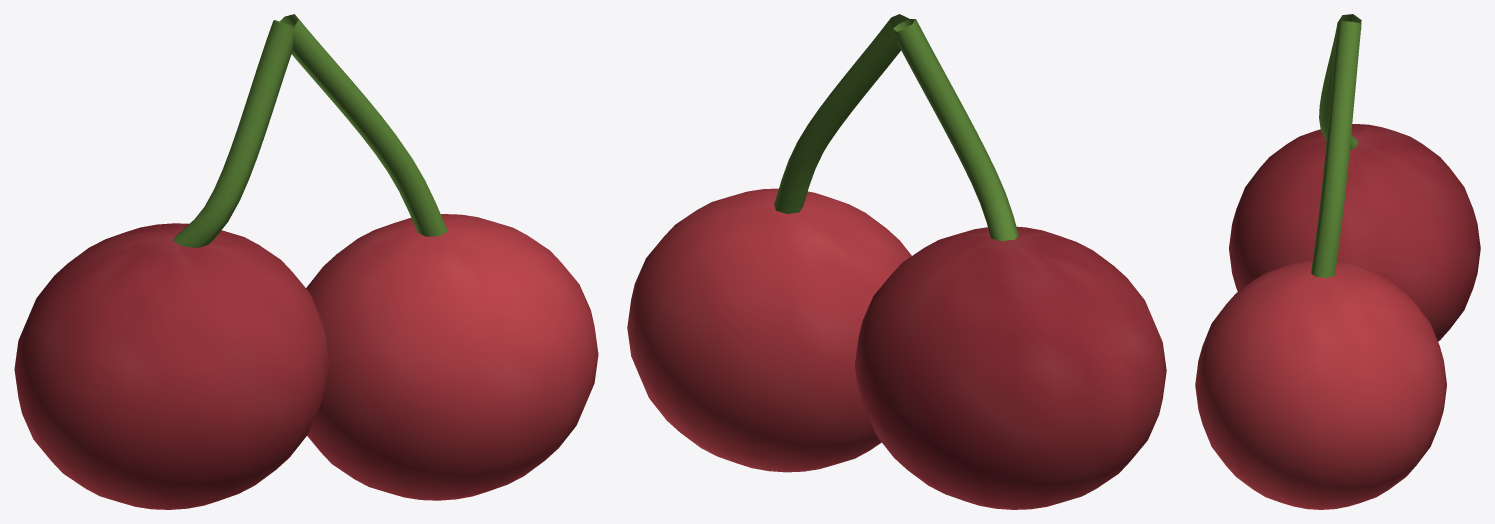
File: cherry.glb
3 views of the same model, side by side, from view 1: azimuth 30°, elevation 25°; view 2: azimuth 150°, elevation 25°; view 3: azimuth 270°, elevation 25° (orthographic). The views are drawn at different scales.
Parts seen in each view (by area): view 1: cherry; view 2: cherry; view 3: cherry.
Part boxes in pixels (bbox=[...]): cherry: bbox=[14, 14, 598, 509]; cherry: bbox=[627, 14, 1166, 509]; cherry: bbox=[1195, 14, 1480, 509].
Size of the model in its own units: 0.996 by 0.8812 by 0.5427.
